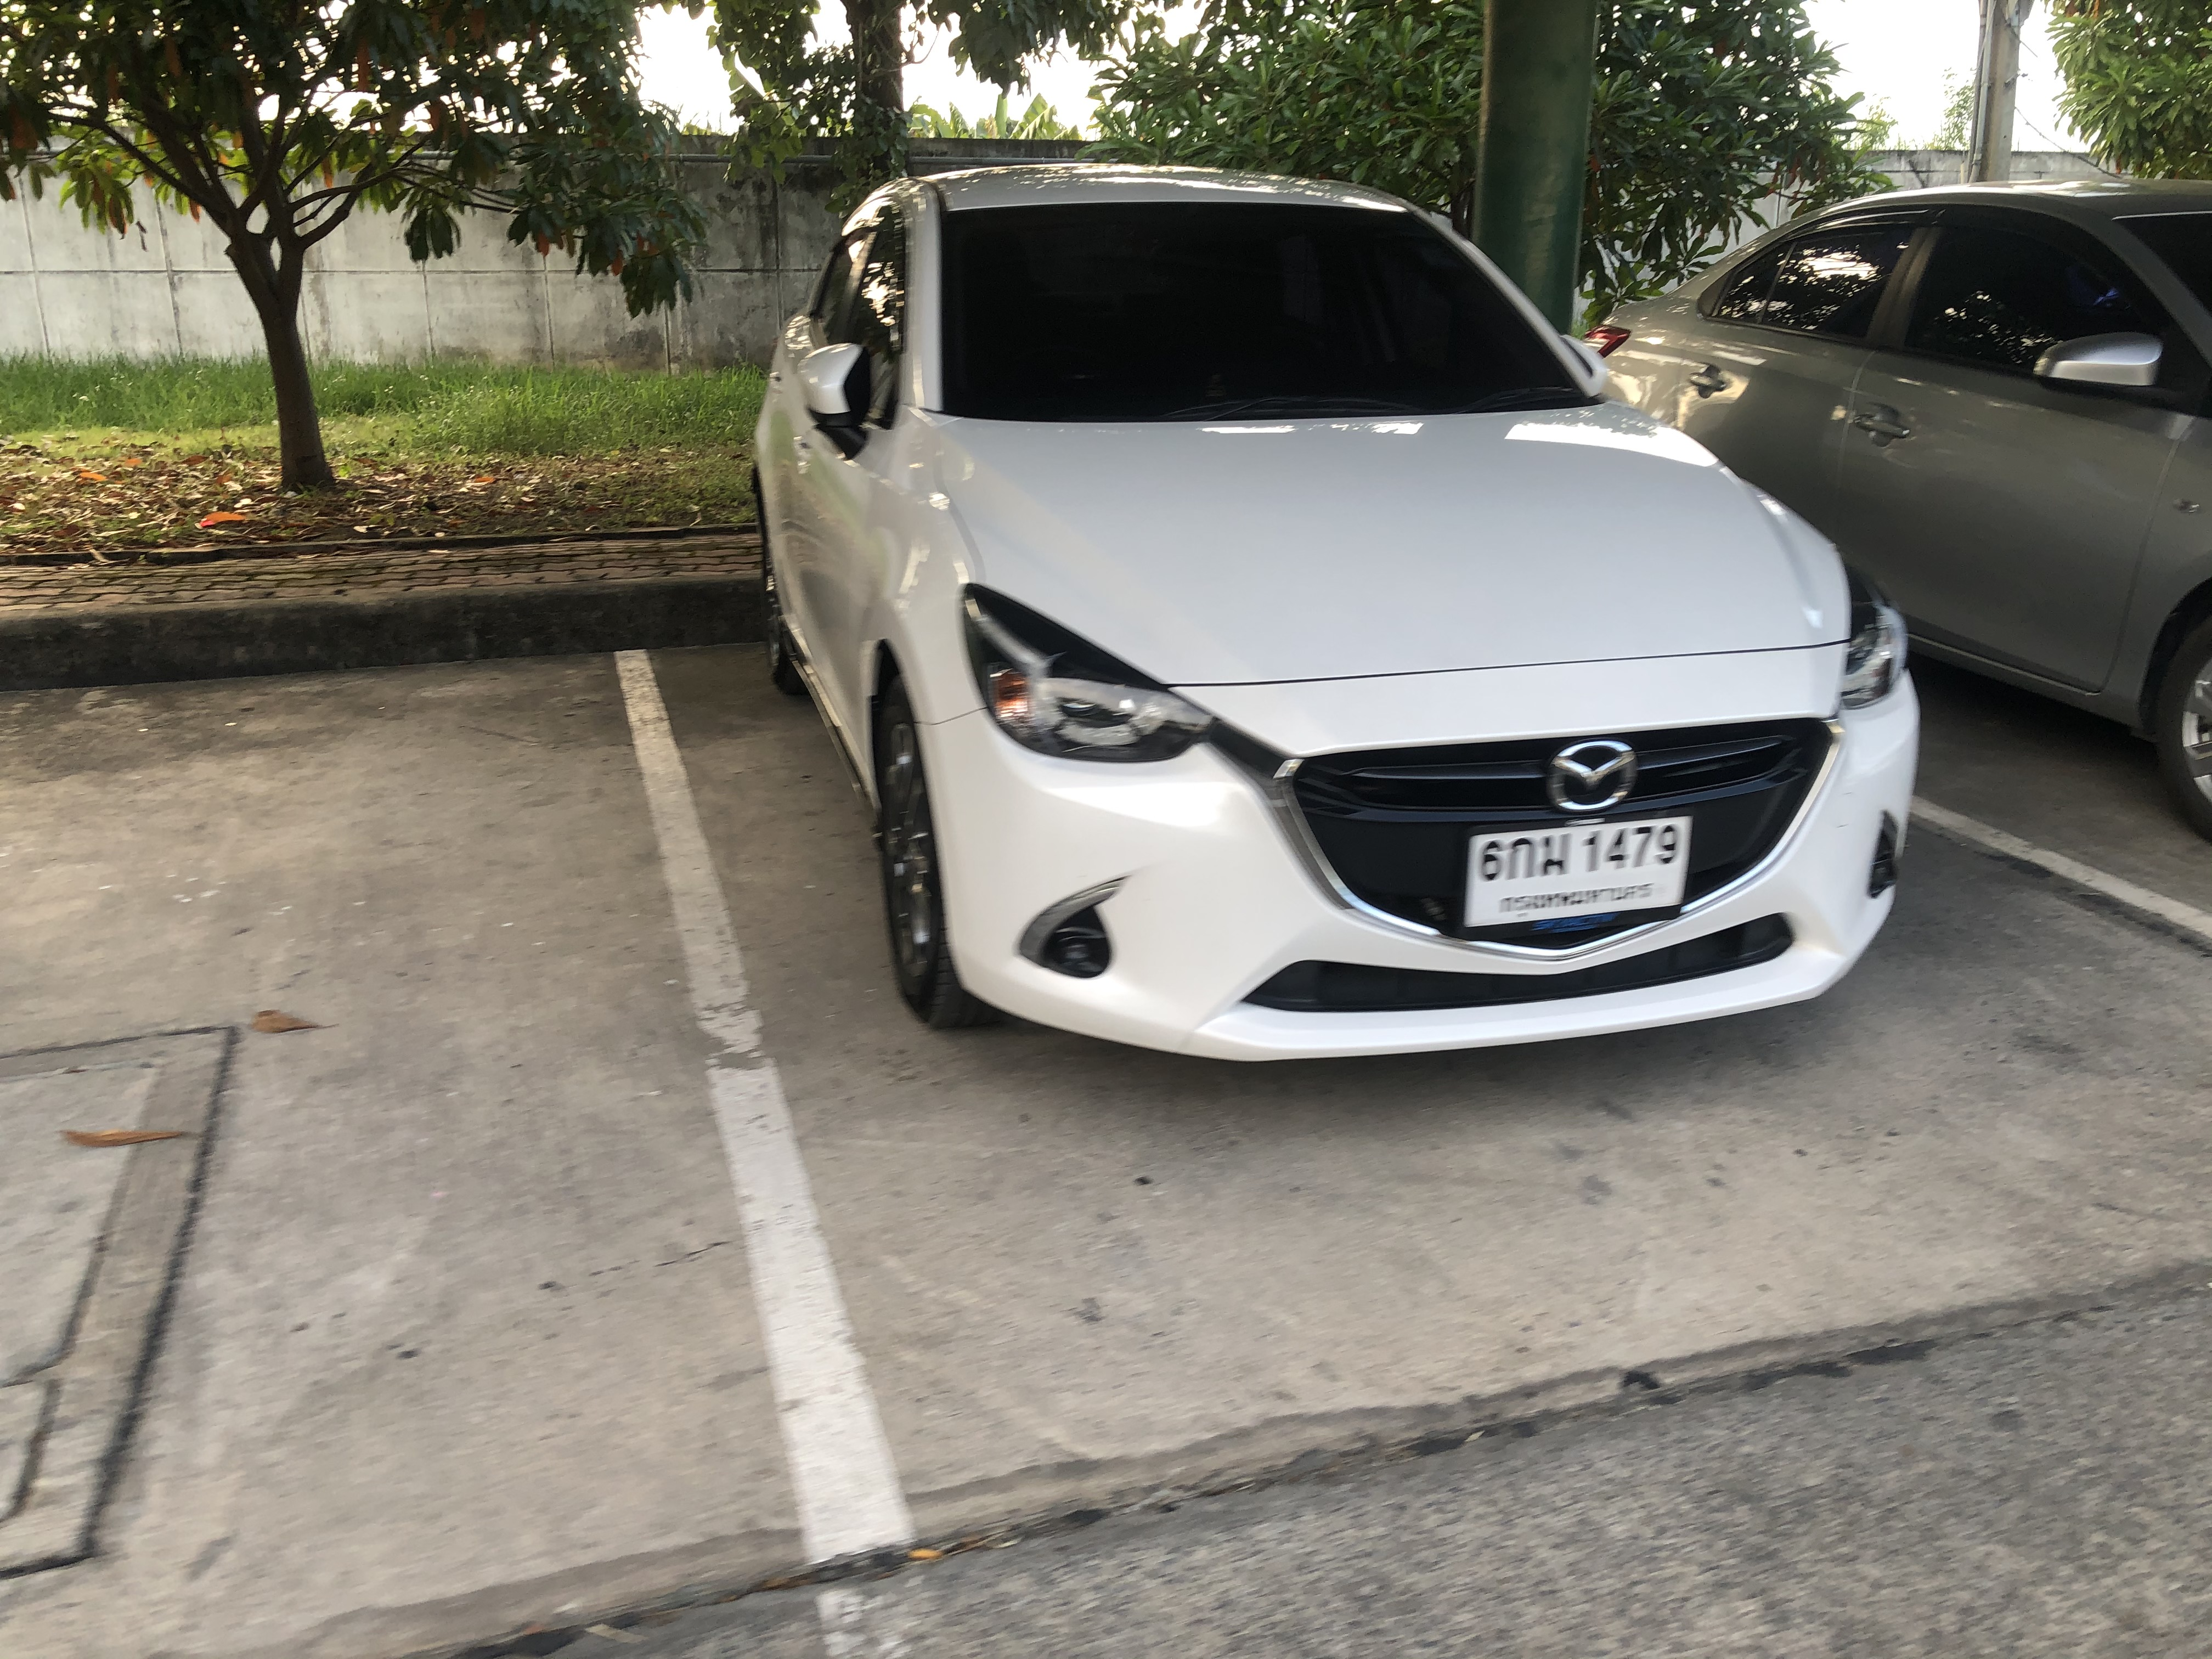in: (1470, 821, 1688, 929)
out: (1449, 802, 1705, 950)
